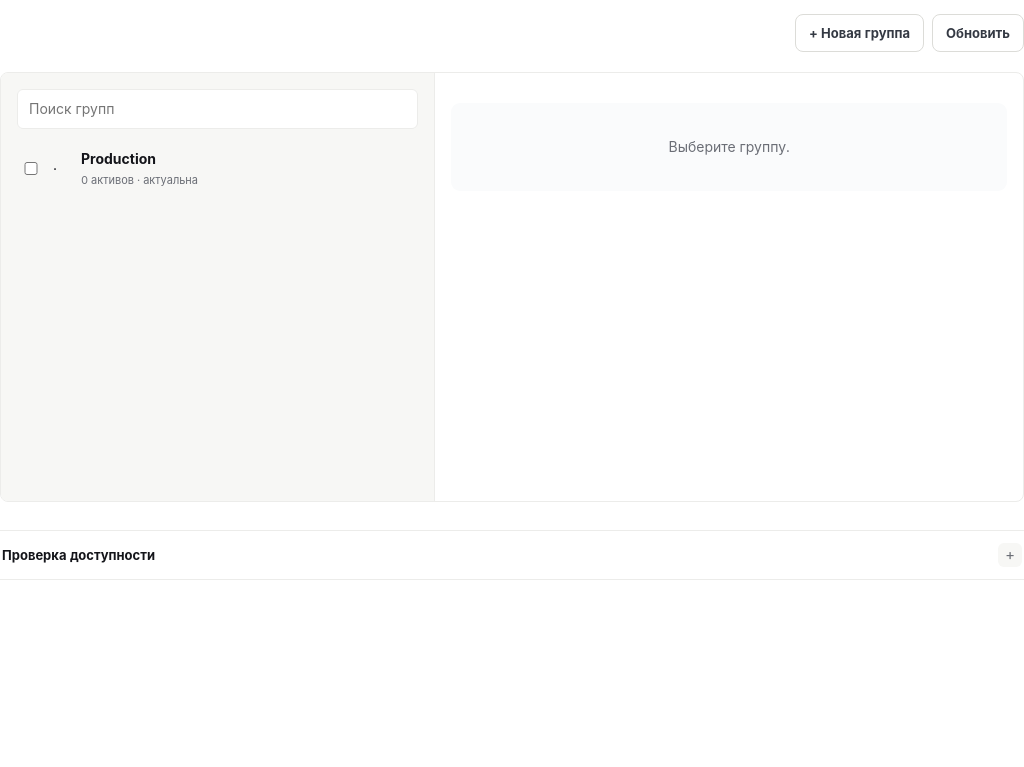
asset group safeguards › describes the group rule in words and opens the create form on demand
Expected: the heading "Новая динамическая группа" is not shown
Click the button "· Production 0 активов · актуальна": (119,159) [43,141,418,196]
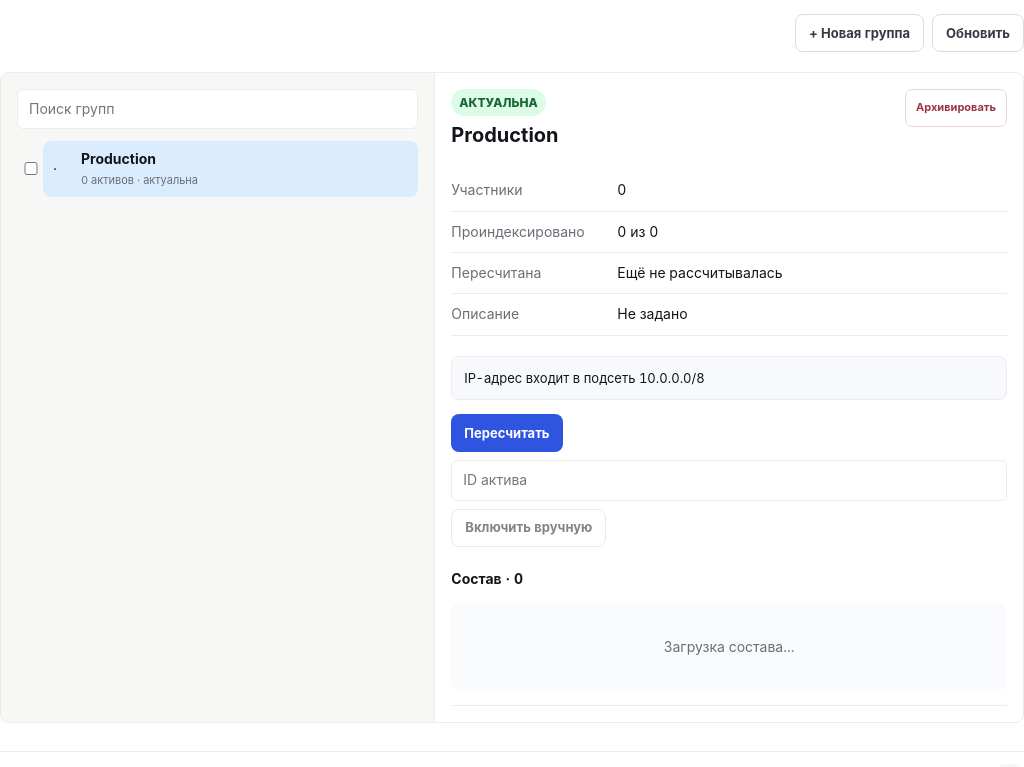
Expected: the text "IP-адрес входит в подсеть 10.0.0.0/8" is shown, [451,356,1007,400]
Click the button "+ Новая группа": (860,33) [795,14,924,52]
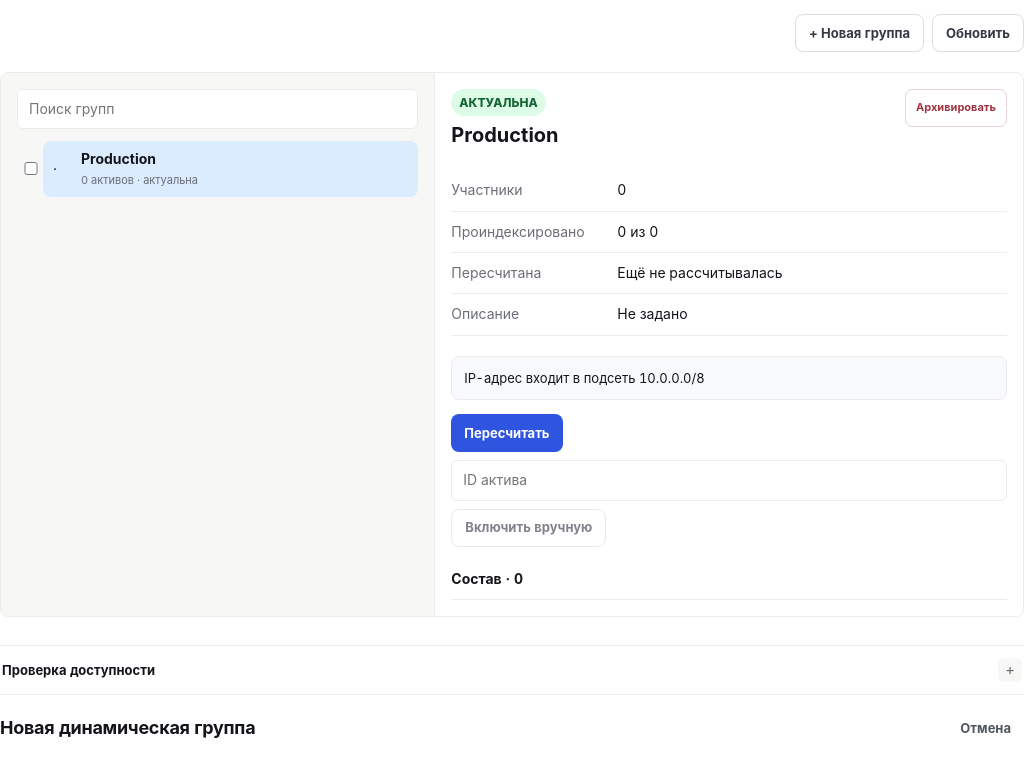
Expected: the heading "Новая динамическая группа" is shown, [0,715,255,741]
